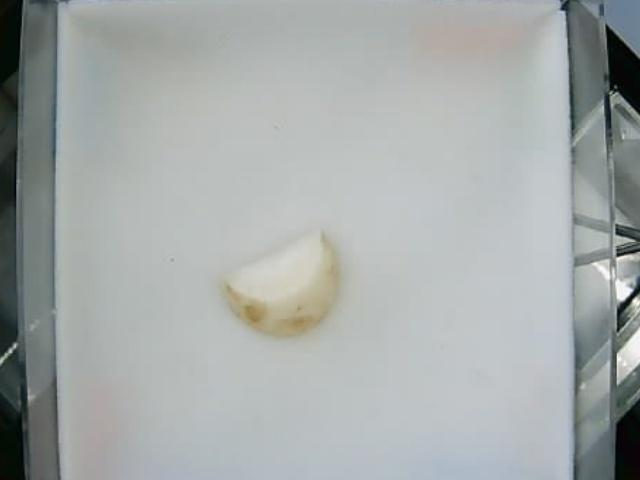Mooli: (222, 225, 339, 335)
